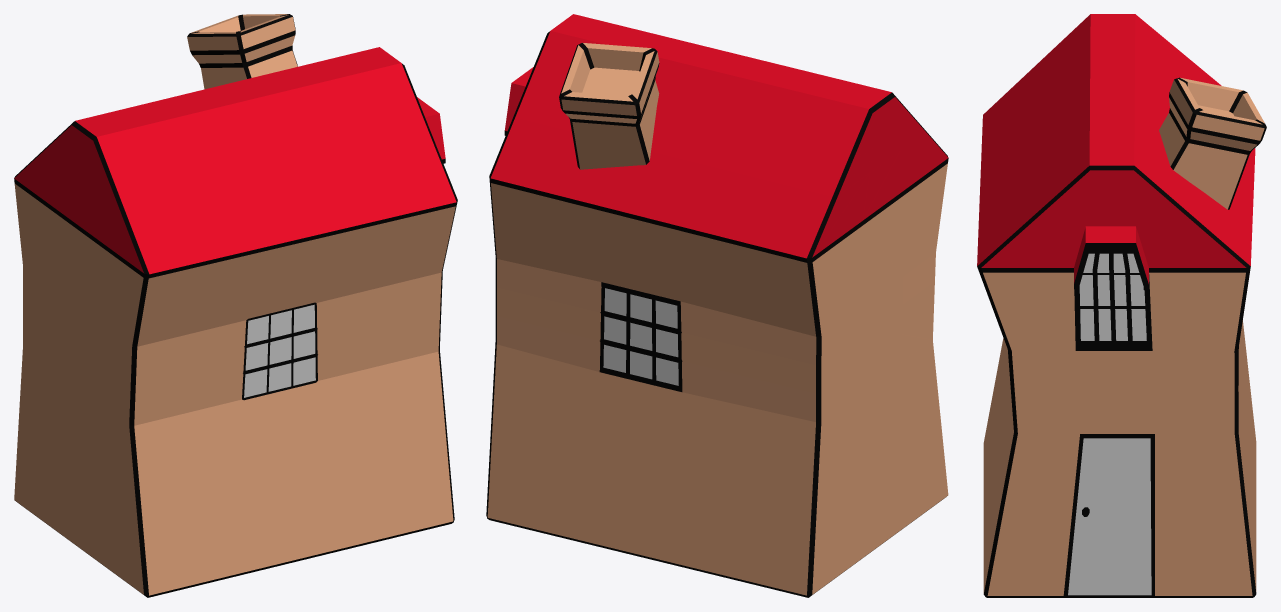
File: CardboardHouse.fbx
3 renders of one model, left to right at view 1: azimuth 30°, elevation 25°; view 2: azimuth 150°, elevation 25°; view 3: azimuth 270°, elevation 25°, orthographic. The views are drawn at different scales.
Visible parts, largest first — view 1: Cube.016; view 2: Cube.016; view 3: Cube.016.
Boxes of the visible parts, <box> form: Cube.016: <box>14,14,457,597</box>; Cube.016: <box>486,14,948,597</box>; Cube.016: <box>977,14,1266,597</box>.
Bounding box in the file's own units: 1567 × 1967 × 1121.
